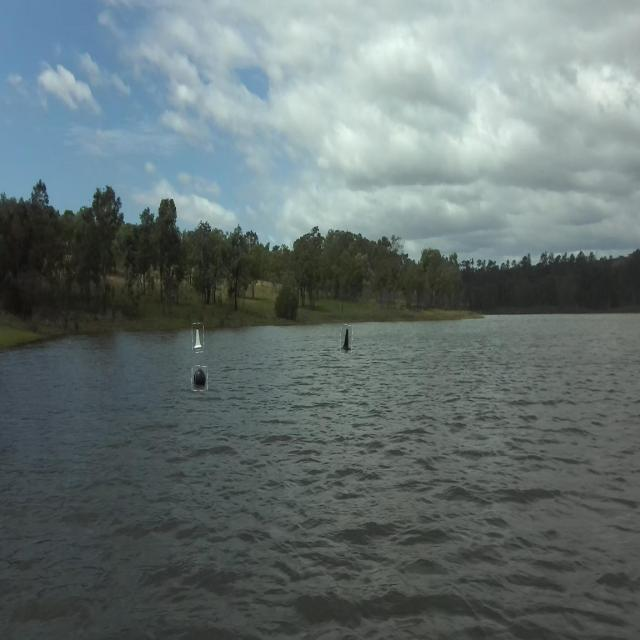Black_Buoy: (340, 324, 356, 360), (190, 366, 209, 396)
White_Buoy: (189, 321, 208, 355)
